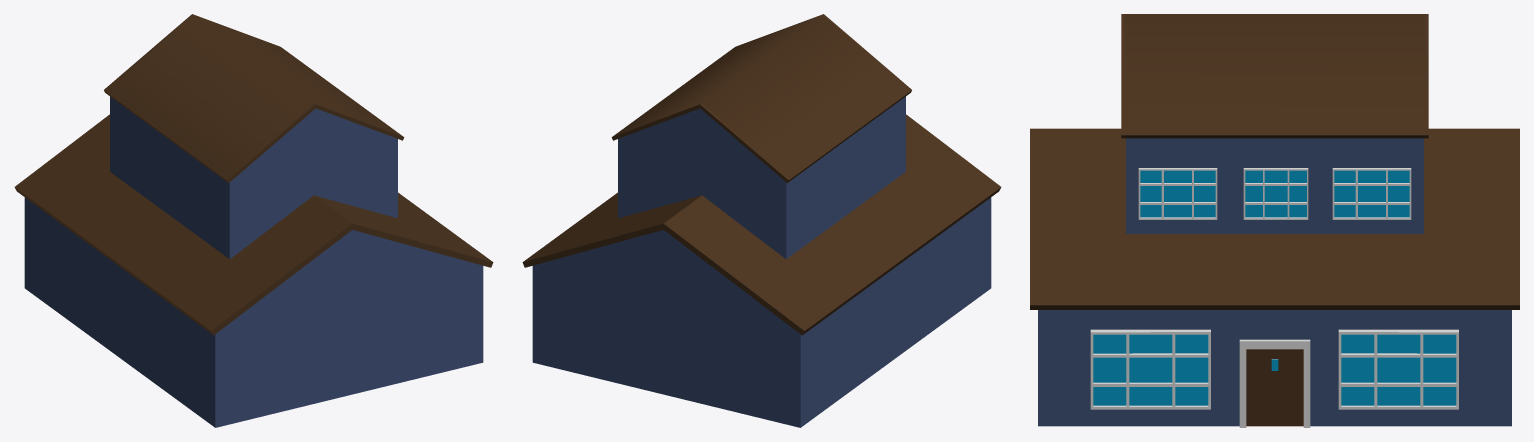
The model's file is House2.fbx.
The picture shows the model from 3 angles, left to right: view 1: azimuth 30°, elevation 25°; view 2: azimuth 150°, elevation 25°; view 3: azimuth 270°, elevation 25°; orthographic projection. The views are drawn at different scales.
Visible parts, largest first — view 1: House2; view 2: House2; view 3: House2.
Part boxes in pixels (left/top/right/bottom): House2: left=14, top=14, right=493, bottom=427; House2: left=522, top=14, right=1001, bottom=427; House2: left=1030, top=14, right=1519, bottom=427.
Size of the model in its own units: 0.2634 by 0.2375 by 0.3184.
